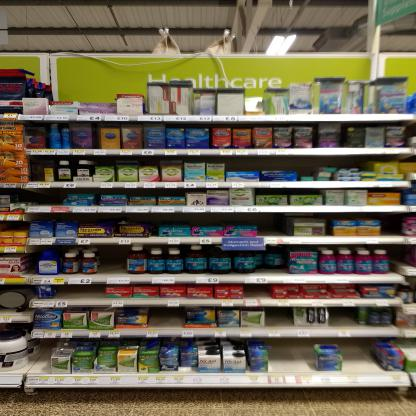Void: (340, 340, 384, 372), (145, 214, 254, 226), (269, 339, 312, 369), (232, 158, 311, 171), (260, 214, 289, 236), (152, 308, 186, 326), (56, 286, 105, 298), (330, 307, 358, 327), (380, 214, 403, 237), (326, 156, 366, 169), (391, 244, 413, 266), (100, 246, 120, 270), (266, 308, 292, 326), (34, 190, 59, 202), (31, 157, 42, 178)
